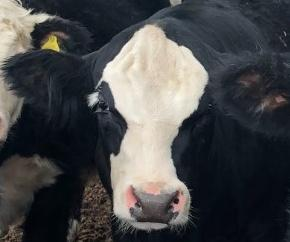muzzles: (109, 177, 193, 232)
